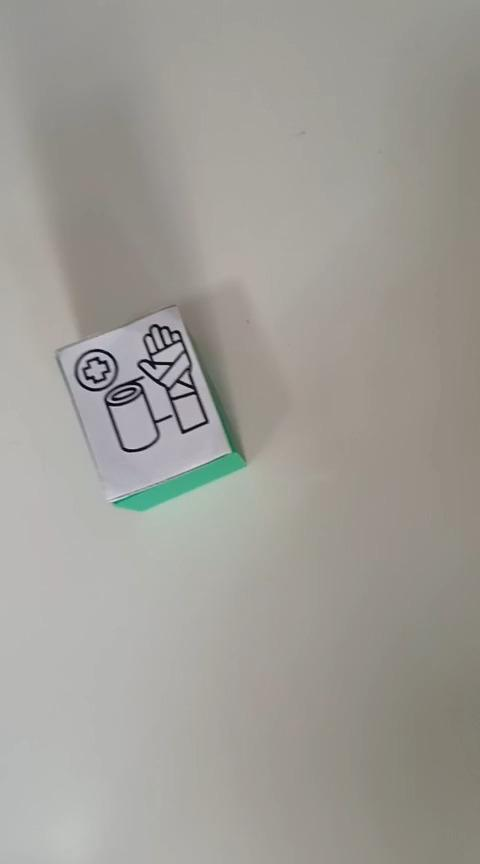Bandages: (54, 303, 246, 510)
